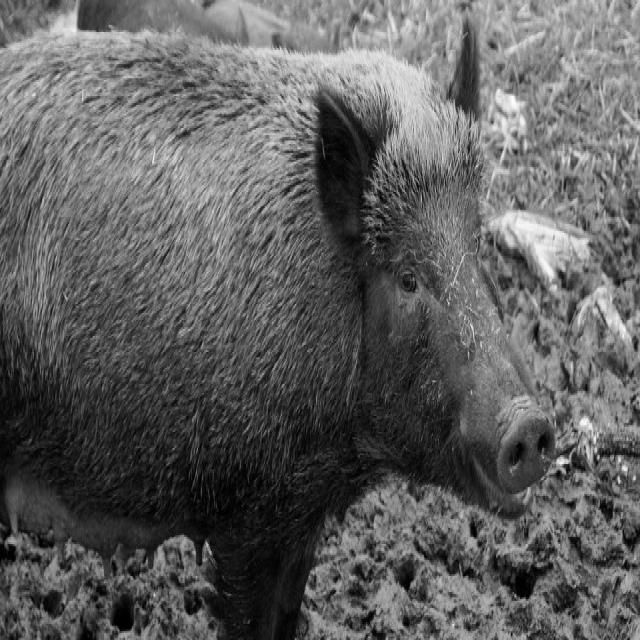boar: (0, 19, 555, 637)
